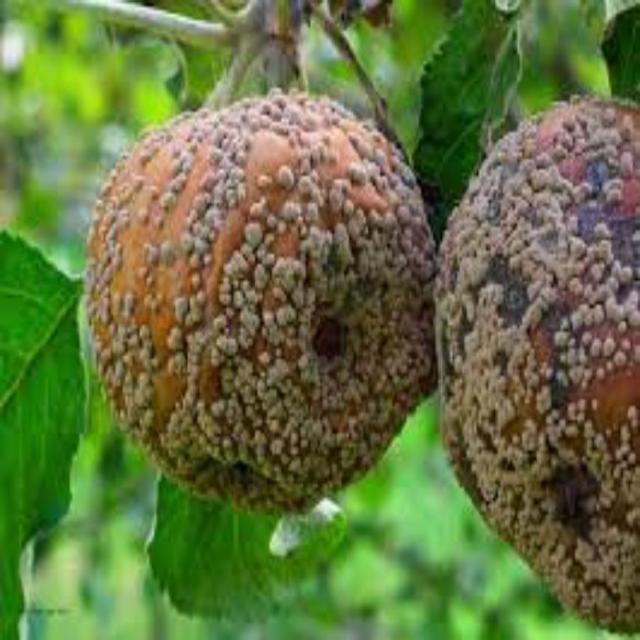Rotten Apple: (73, 66, 429, 523), (444, 48, 639, 635)
